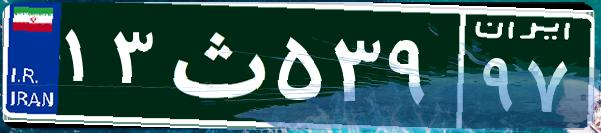1: (57, 26, 110, 107)
3: (330, 28, 385, 110), (110, 28, 158, 105)
5: (273, 28, 330, 110)
7: (525, 38, 570, 115)
9: (385, 28, 445, 110), (475, 38, 525, 113)
ث: (158, 15, 273, 115)
